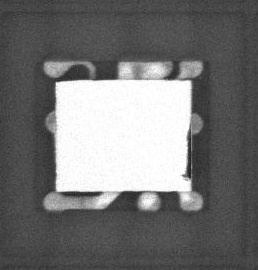DIE_BROKEN: (181, 127, 193, 182)
